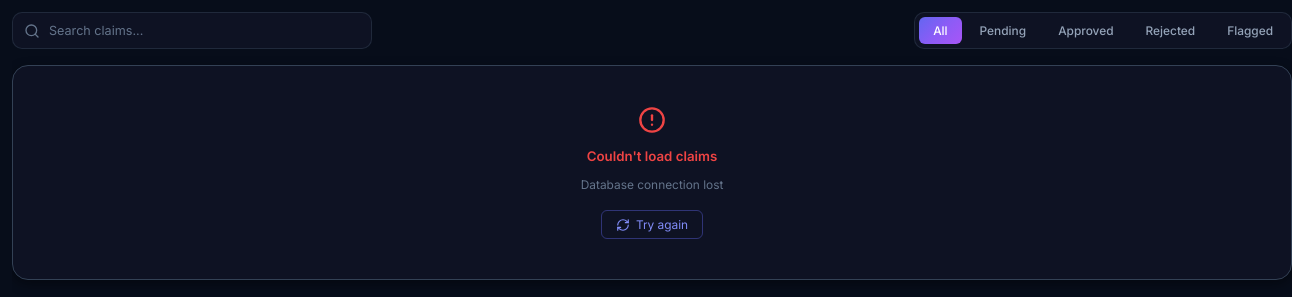
ClaimsPage › shows the API error with a retry instead of sample claims
The image size is (1292, 297).
Expected: the message shows "Database connection lost", [581,177,723,192]
Click the button "Try again" at (652,225), box [601,210,703,239]
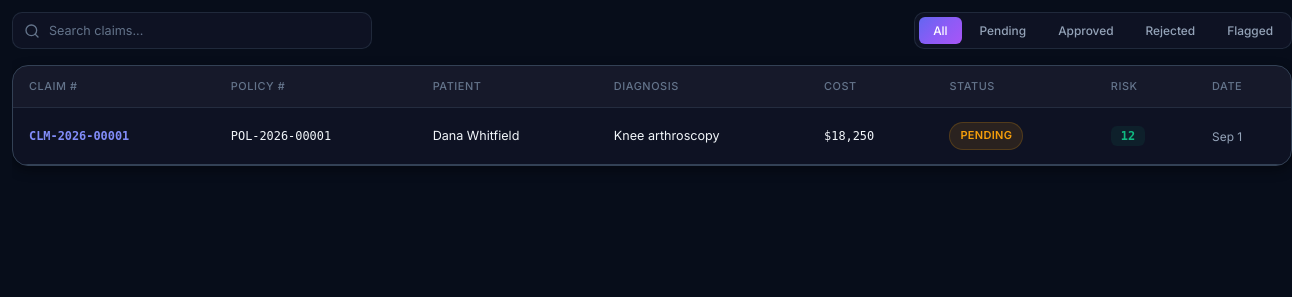
Expected: the link "CLM-2026-00001" is shown, [29,129,129,143]
